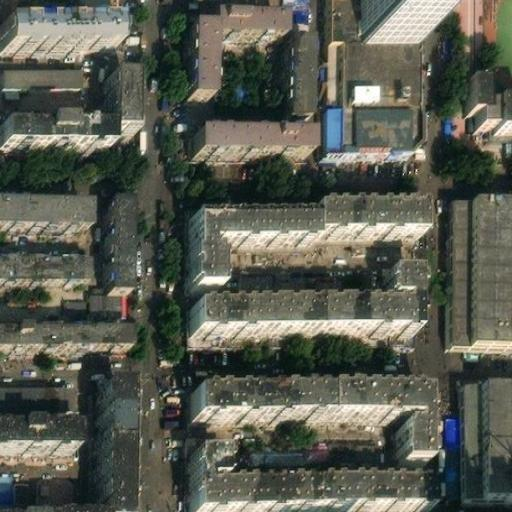building: (188, 206, 417, 288), (191, 384, 426, 460), (189, 450, 424, 512), (189, 269, 412, 332), (0, 70, 128, 145), (184, 17, 275, 99), (471, 191, 512, 341), (89, 386, 118, 512), (481, 384, 512, 498), (451, 191, 474, 341), (190, 127, 303, 155), (0, 16, 111, 44), (0, 193, 87, 223), (64, 287, 124, 325), (463, 384, 483, 498), (464, 80, 512, 127), (106, 198, 131, 288), (284, 30, 308, 110), (0, 379, 66, 407), (4, 62, 82, 82), (36, 472, 77, 509), (310, 113, 341, 161), (0, 468, 14, 499)
